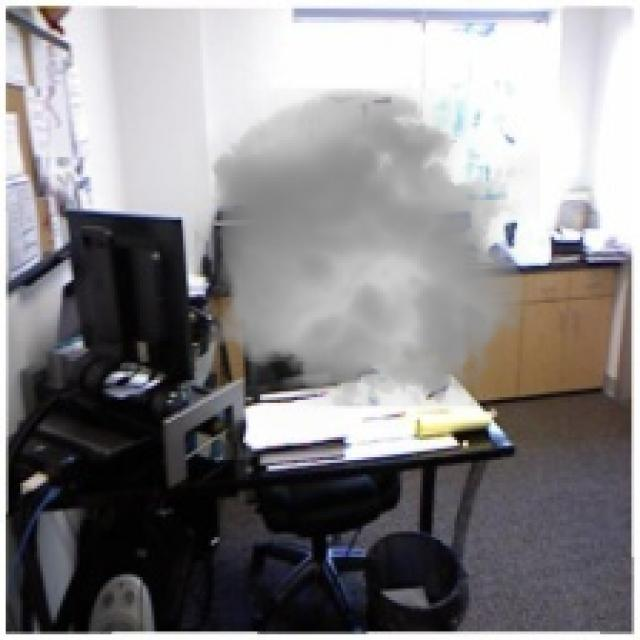smoke: (194, 77, 540, 423)
